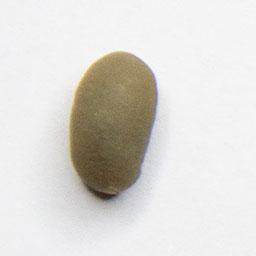peaberry: (66, 47, 161, 200)
